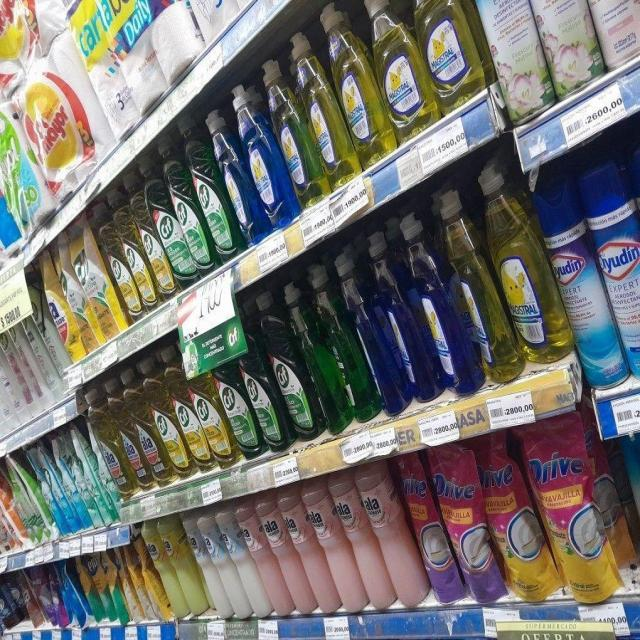magistral_con_amarillo: (423, 0, 469, 110)
magistral_con_azul: (631, 112, 640, 202)
